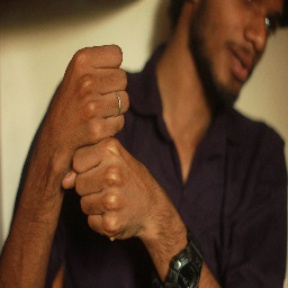G: (47, 40, 160, 246)
